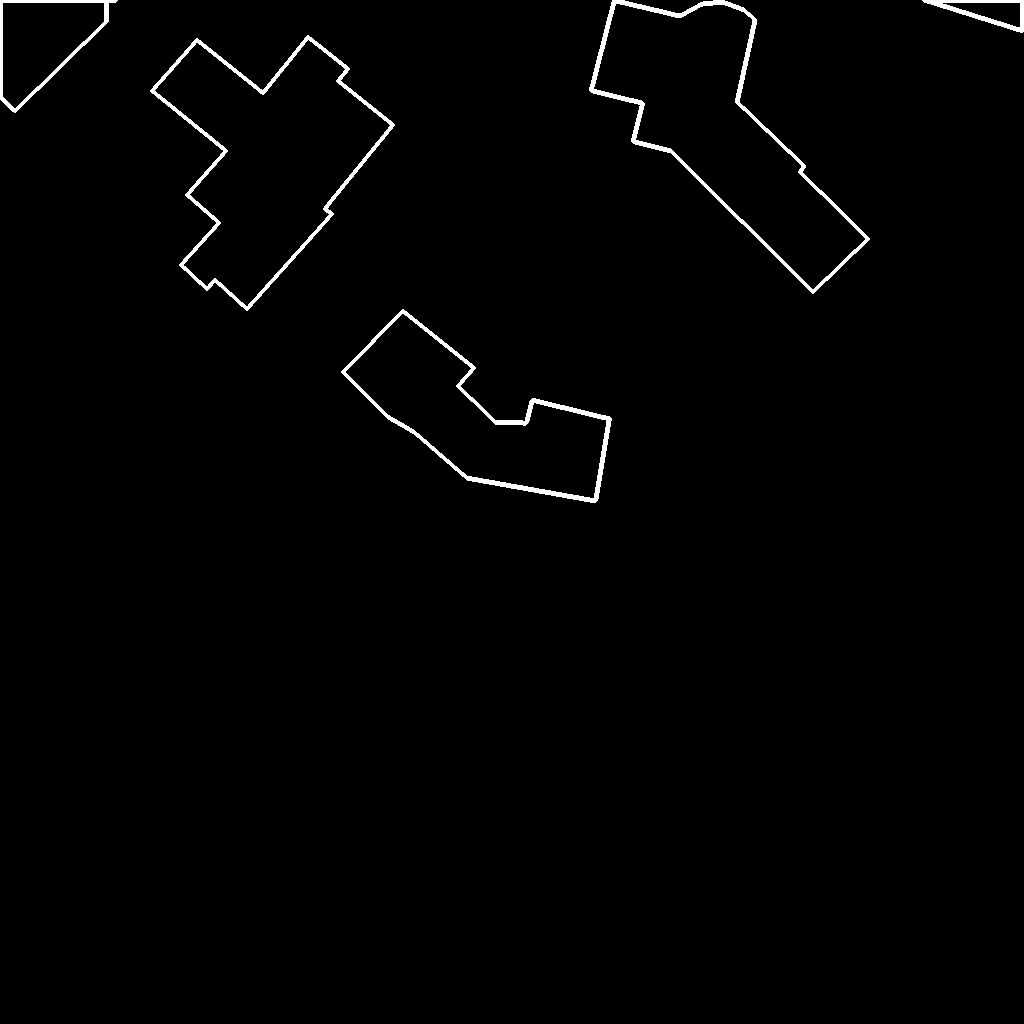building: (591, 0, 869, 293), (152, 37, 394, 310), (343, 311, 611, 502), (0, 0, 127, 112), (923, 0, 1024, 32)
